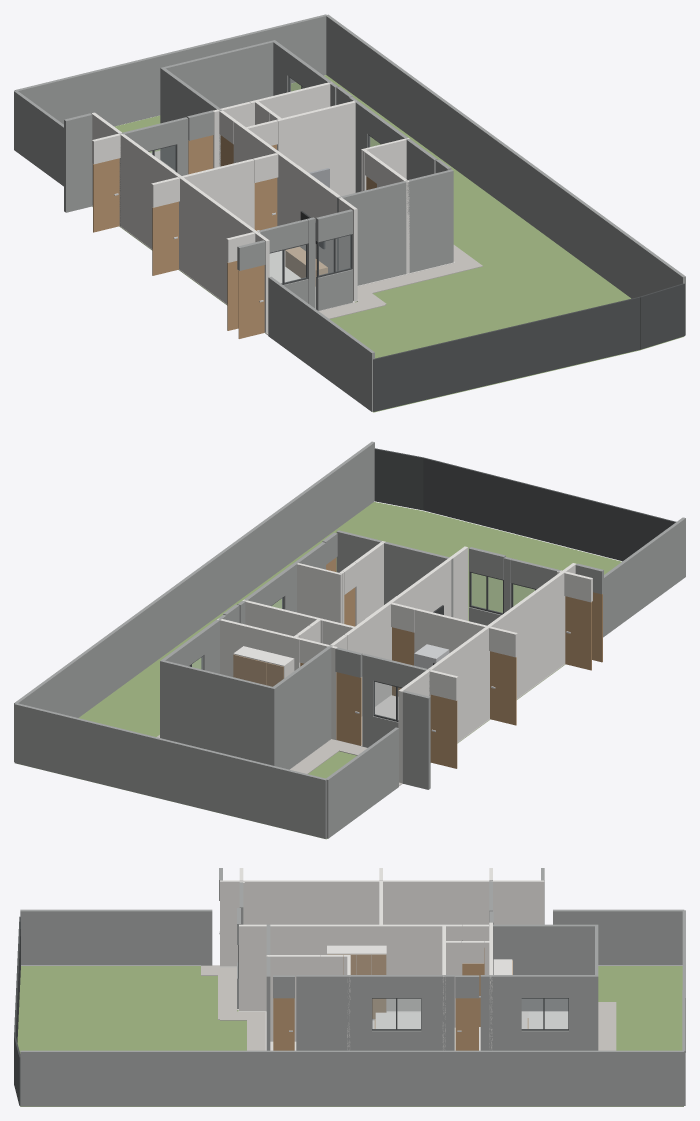
The model's file is casa.glb.
3 renders of one model, top to bottom at view 1: azimuth 30°, elevation 25°; view 2: azimuth 150°, elevation 25°; view 3: azimuth 270°, elevation 25°, orthographic. The views are drawn at different scales.
Parts seen in each view (by area): view 1: fachada, parede, grama, esquadria, vidro, concreto, door5_swing__porta, door6_swing__porta, door9_swing__porta, door4_swing__porta, piso, door11_swing__porta (+2 smaller); view 2: fachada, parede, esquadria, grama, vidro, door5_swing__porta, door6_swing__porta, door7_swing__porta, door11_swing__porta, madeira, concreto, door4_swing__porta (+3 smaller); view 3: fachada, parede, grama, concreto, vidro, enxoval, esquadria, door12_swing__porta, door10_swing__porta, madeira, armario, piso (+1 smaller).
Boxes of the visible parts, x1,y1,x2,y2 form: fachada: [14, 14, 685, 411]; parede: [91, 82, 409, 332]; grama: [92, 75, 683, 412]; esquadria: [148, 76, 684, 411]; vidro: [149, 78, 379, 283]; concreto: [150, 150, 482, 335]; door5_swing__porta: [93, 158, 119, 232]; door6_swing__porta: [152, 201, 178, 275]; door9_swing__porta: [238, 265, 264, 338]; door4_swing__porta: [254, 177, 277, 230]; piso: [92, 160, 455, 333]; door11_swing__porta: [188, 135, 213, 174]; fachada: [14, 441, 685, 838]; parede: [217, 541, 592, 782]; esquadria: [189, 448, 676, 721]; grama: [21, 502, 621, 839]; vidro: [192, 573, 534, 719]; door5_swing__porta: [430, 694, 457, 768]; door6_swing__porta: [490, 651, 516, 725]; door7_swing__porta: [565, 596, 591, 670]; door11_swing__porta: [336, 672, 361, 745]; madeira: [233, 654, 283, 686]; concreto: [156, 735, 402, 785]; door4_swing__porta: [392, 627, 414, 696]; fachada: [20, 868, 685, 1106]; parede: [220, 868, 544, 1050]; grama: [17, 966, 683, 1106]; concreto: [201, 965, 616, 1050]; vidro: [372, 999, 567, 1028]; enxoval: [375, 1011, 568, 1028]; esquadria: [14, 916, 568, 1105]; door12_swing__porta: [455, 998, 478, 1050]; door10_swing__porta: [273, 998, 294, 1050]; madeira: [327, 954, 528, 1028]; armario: [327, 945, 512, 1020]; piso: [220, 966, 528, 1050].
Bounding box in the file's own units: 10.86 × 2.83 × 20.06.
